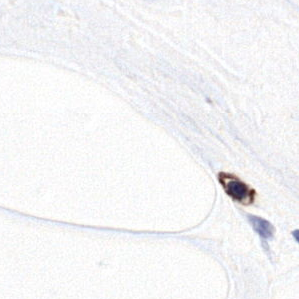Lymphocyte: (225, 173, 251, 201)
